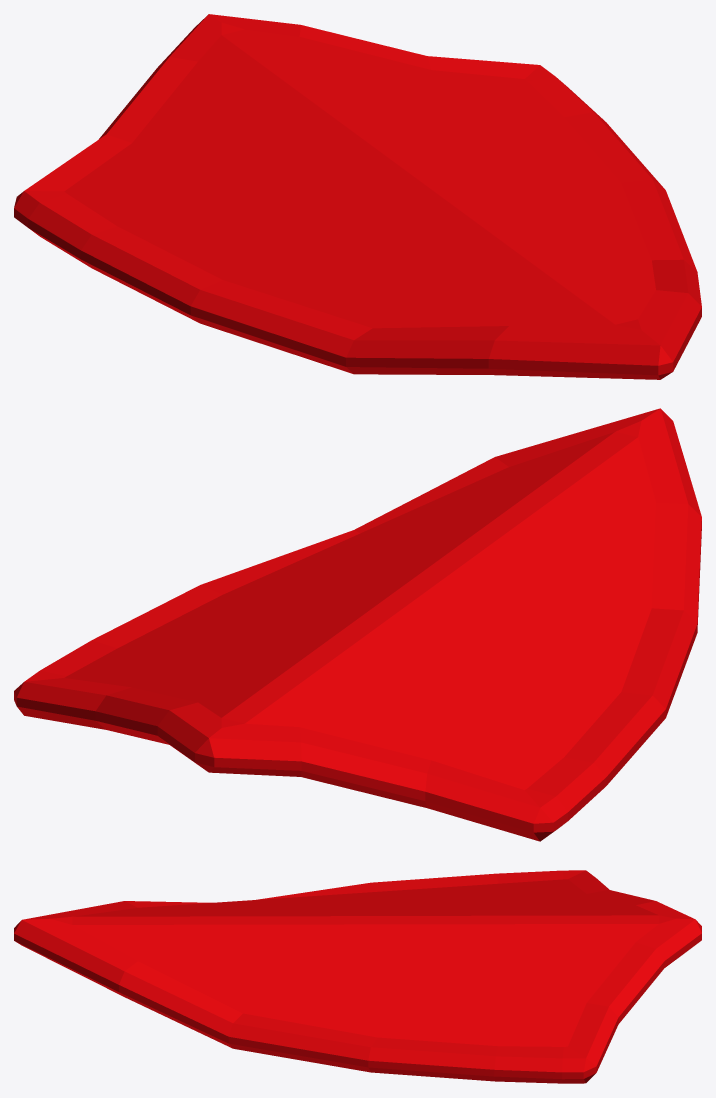
File: Shild_4.fbx
3 views of the same model, one above another, from view 1: azimuth 30°, elevation 25°; view 2: azimuth 150°, elevation 25°; view 3: azimuth 270°, elevation 25° (orthographic). The views are drawn at different scales.
Visible parts, largest first — view 1: Schild-4; view 2: Schild-4; view 3: Schild-4.
Boxes of the visible parts, x1,y1,x2,y2 form: Schild-4: (14,14,701,379); Schild-4: (14,408,701,841); Schild-4: (14,870,701,1083).
Size of the model in its own units: 137 by 23.33 by 204.
